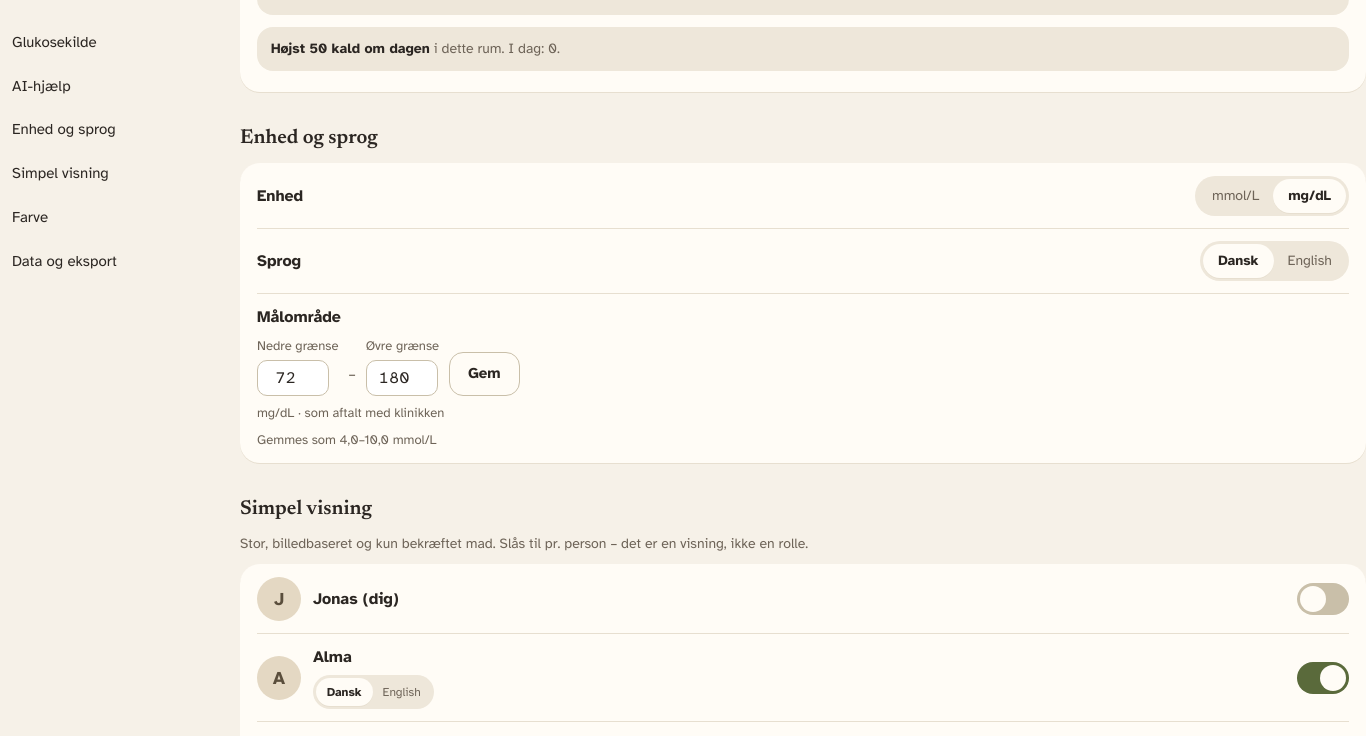
Scenario: SettingsScreen · unit and target range (per space, owners only) › shows the mmol an mg/dL range will be stored as, so rounding is visible
(page scrolled)
Replace the text in the number field labelled "Nedre grænse" with "70" at [293, 378], box [257,360,329,396]
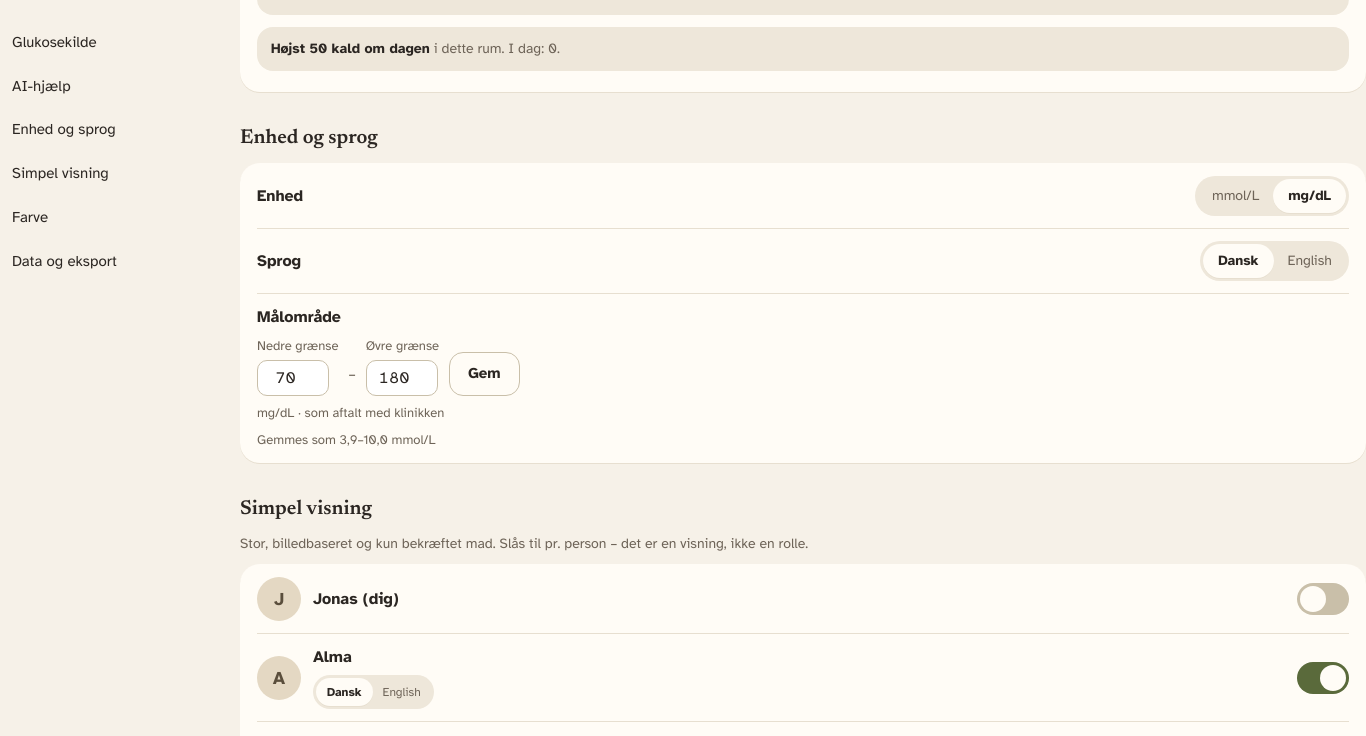
Replace the text in the number field labelled "Øvre grænse" with "179" at [402, 378], box [366,360,438,396]
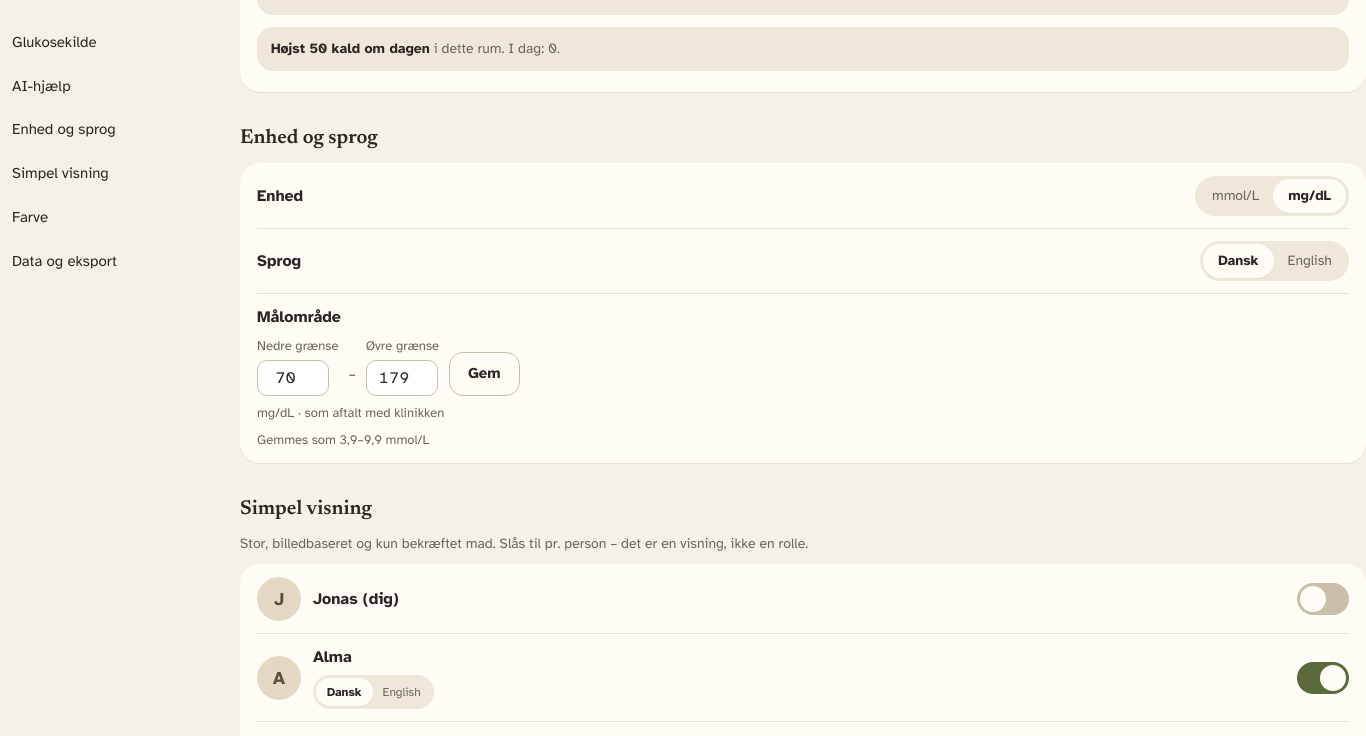
Result: the text with test id "target-range-stored" reads "Gemmes som 3,9–9,9 mmol/L" at [257,432,430,448]
